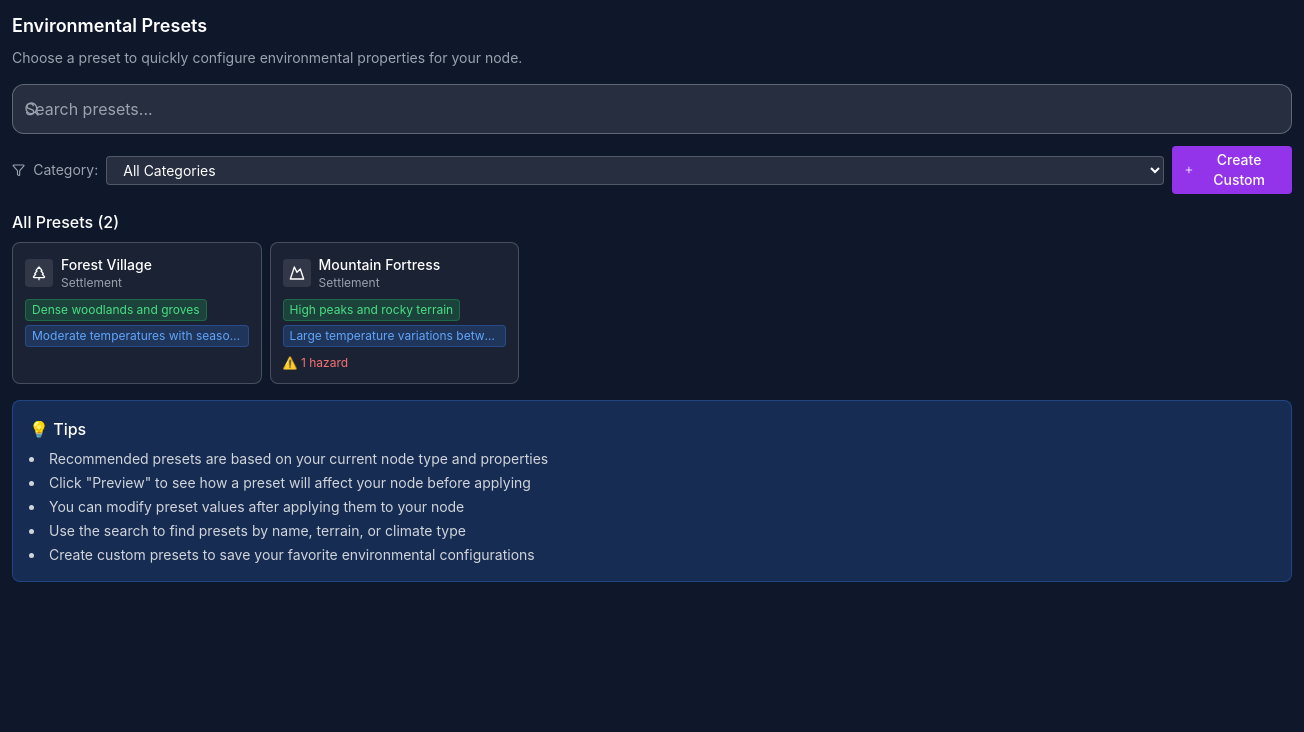
Test case: EnvironmentalPresetSelector › filters presets by search term
This screenshot has width=1304, height=732.
Type "forest" into the field with placeholder "Search presets..." at point(652, 109), box [12,84,1292,134]
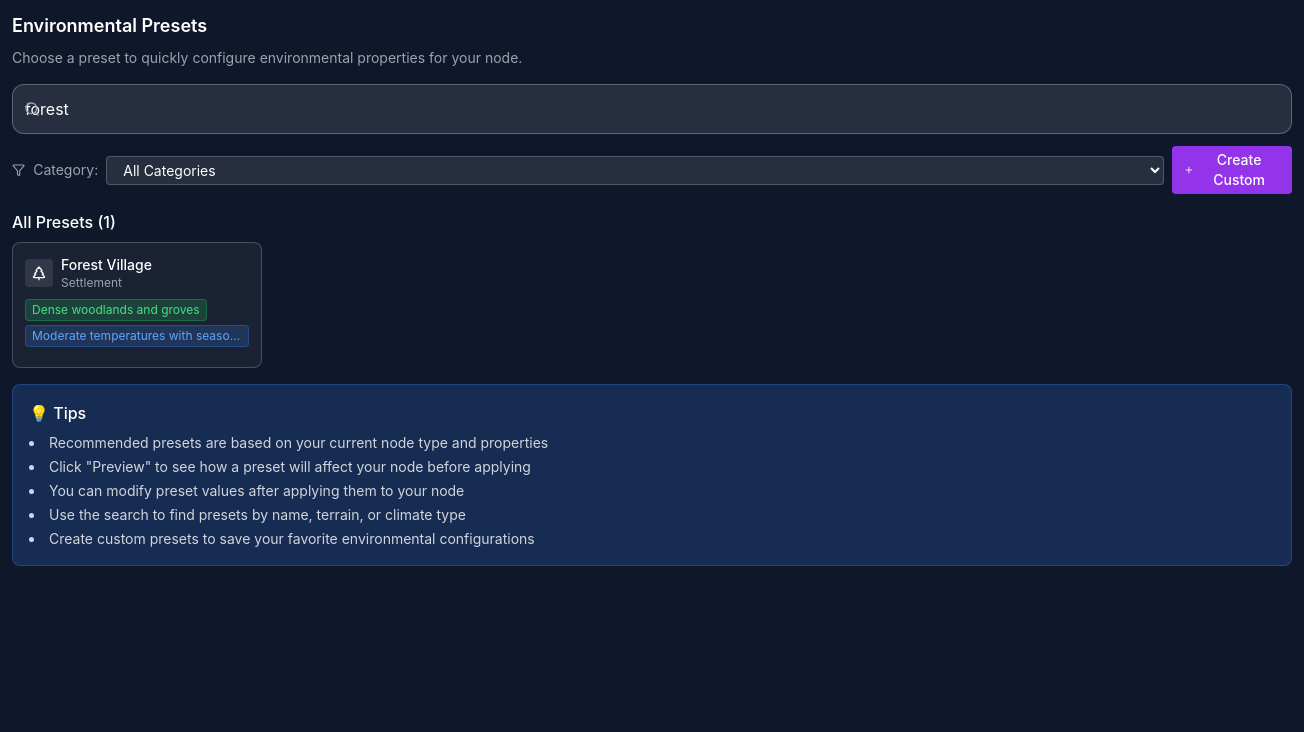
Expected: the heading "Forest Village" is shown, [61,256,152,273]
Now the heading "Mountain Fortress" is gone
